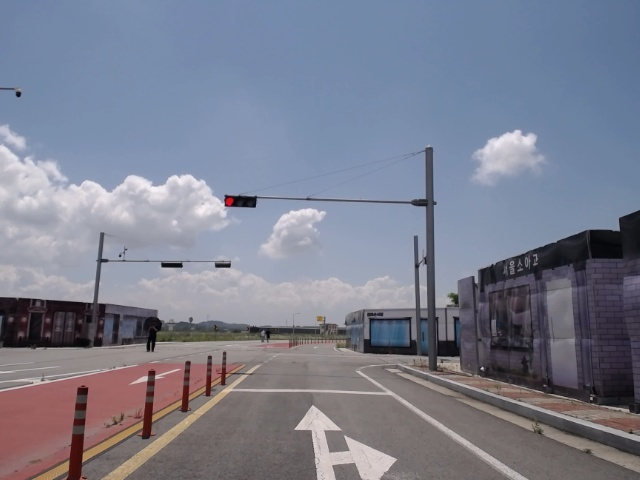red_3: (223, 196, 260, 208)
